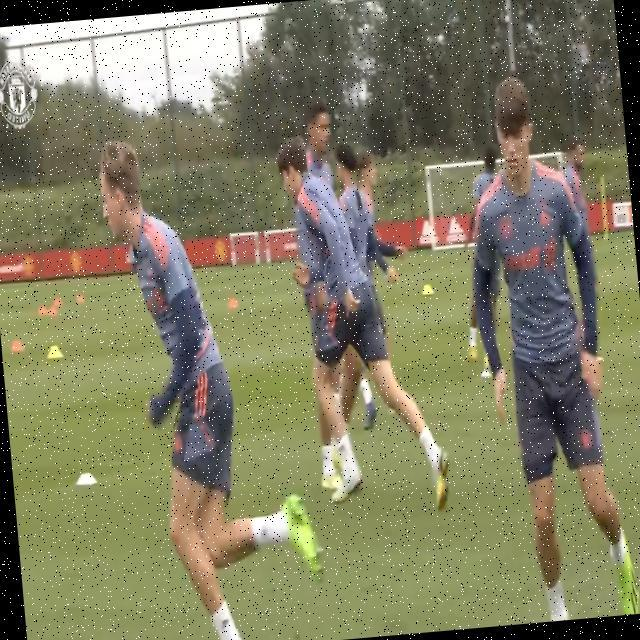Adidas: (444, 212, 466, 245), (418, 219, 441, 246)
